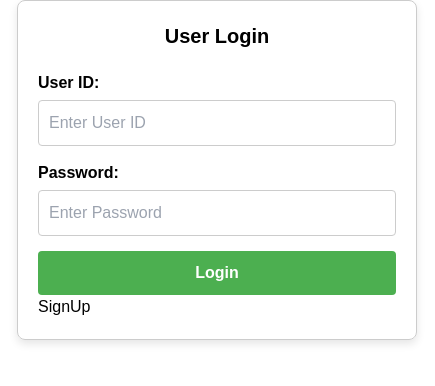
Test: Login Component › Should display an message for empty Password input
Type "admin" into the field with placeholder "Enter User ID". click: [217, 123]
box: [38,100,396,146]
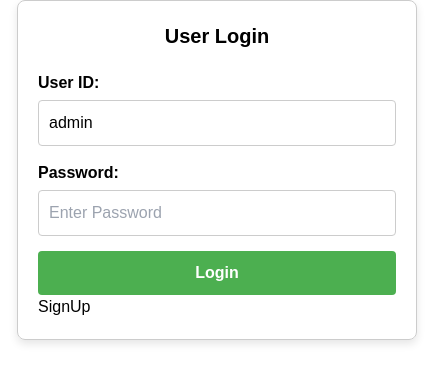
Click the button "Login". click: [217, 273]
box: [38,251,396,295]
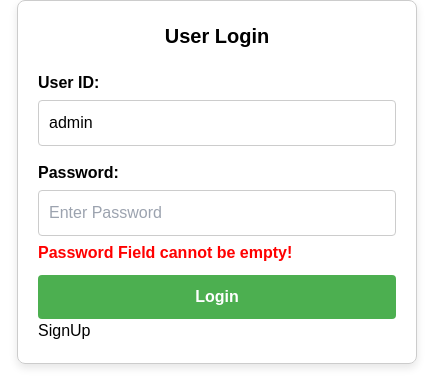
Result: the text "Password Field cannot be empty!" is shown at [38,244,292,261]
